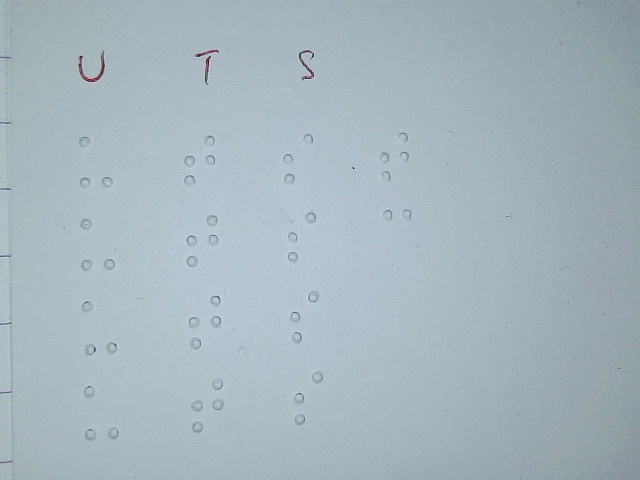S: (281, 131, 316, 185), (288, 288, 321, 344), (292, 369, 325, 425), (285, 209, 318, 262)
T: (187, 293, 223, 351), (189, 376, 225, 434), (182, 133, 217, 187), (185, 213, 220, 267)
U: (83, 383, 121, 442), (80, 299, 119, 356), (78, 133, 115, 189), (79, 216, 116, 272)
